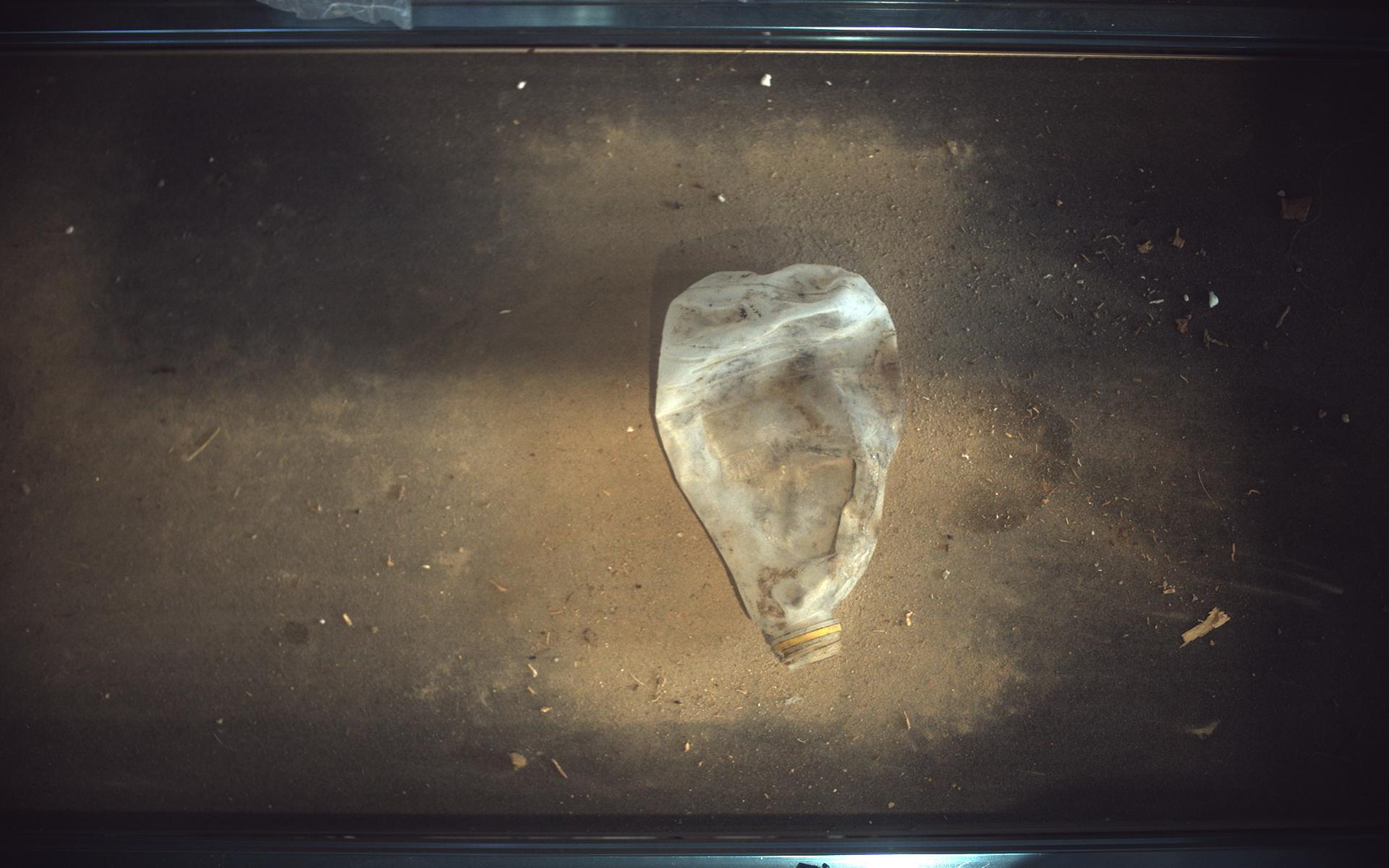general_w: (655, 263, 908, 670)
